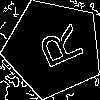R: (28, 23, 86, 75)
